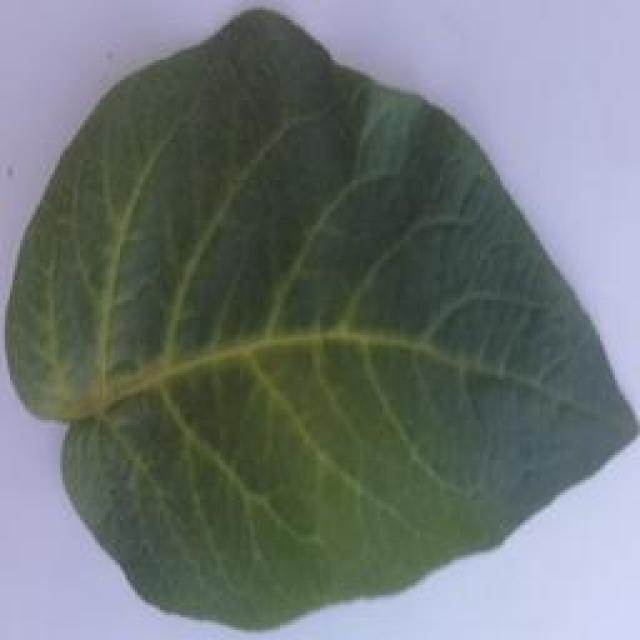Potato_Healthy: (7, 4, 622, 630)
